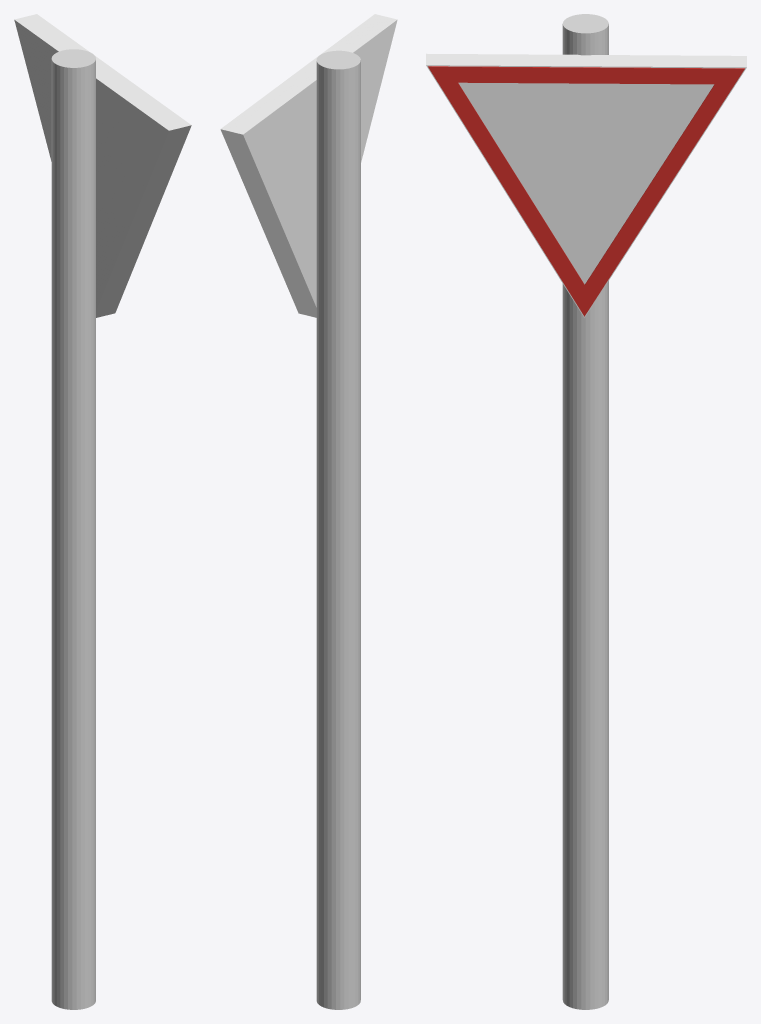
File: SignGiveWay.fbx
3 renders of one model, left to right at view 1: azimuth 30°, elevation 25°; view 2: azimuth 150°, elevation 25°; view 3: azimuth 270°, elevation 25°, orthographic. The views are drawn at different scales.
Parts seen in each view (by area): view 1: Cylinder.006, SignTriangleUp.008; view 2: Cylinder.006, SignTriangleUp.008; view 3: Cylinder.006, SignTriangleUp.008, SignTriangleUp.001.
Part boxes in pixels (<box>): Cylinder.006: <box>51,49,95,1009</box>; SignTriangleUp.008: <box>14,14,191,317</box>; Cylinder.006: <box>316,50,360,1009</box>; SignTriangleUp.008: <box>220,14,397,317</box>; Cylinder.006: <box>562,14,608,1009</box>; SignTriangleUp.008: <box>426,53,746,317</box>; SignTriangleUp.001: <box>428,66,744,316</box>.
Bounding box in the file's own units: 113 × 1671 × 498.
